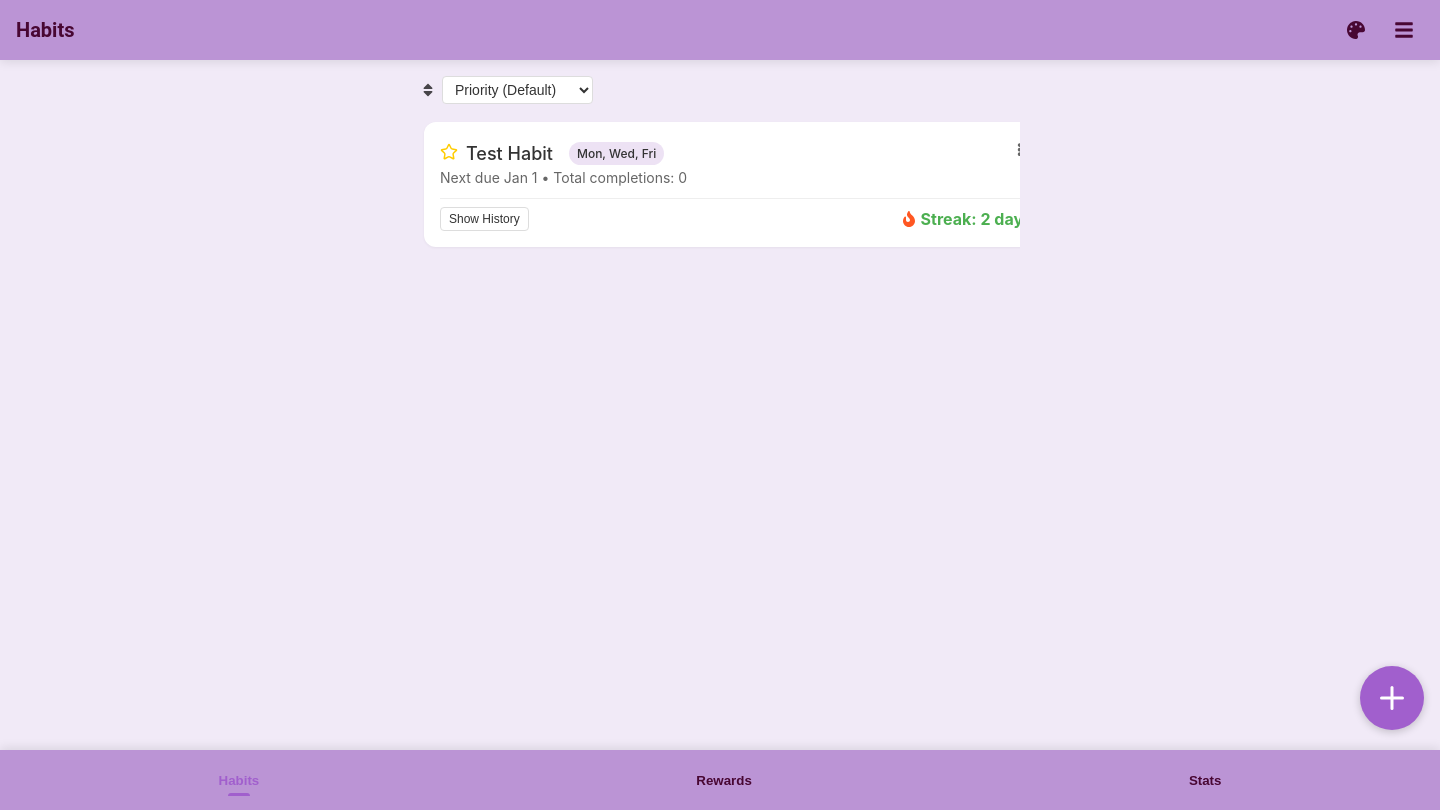
Test: App › opens modal when add button is clicked
Click the button named "add habit": (1392, 698) [1360,666,1424,730]
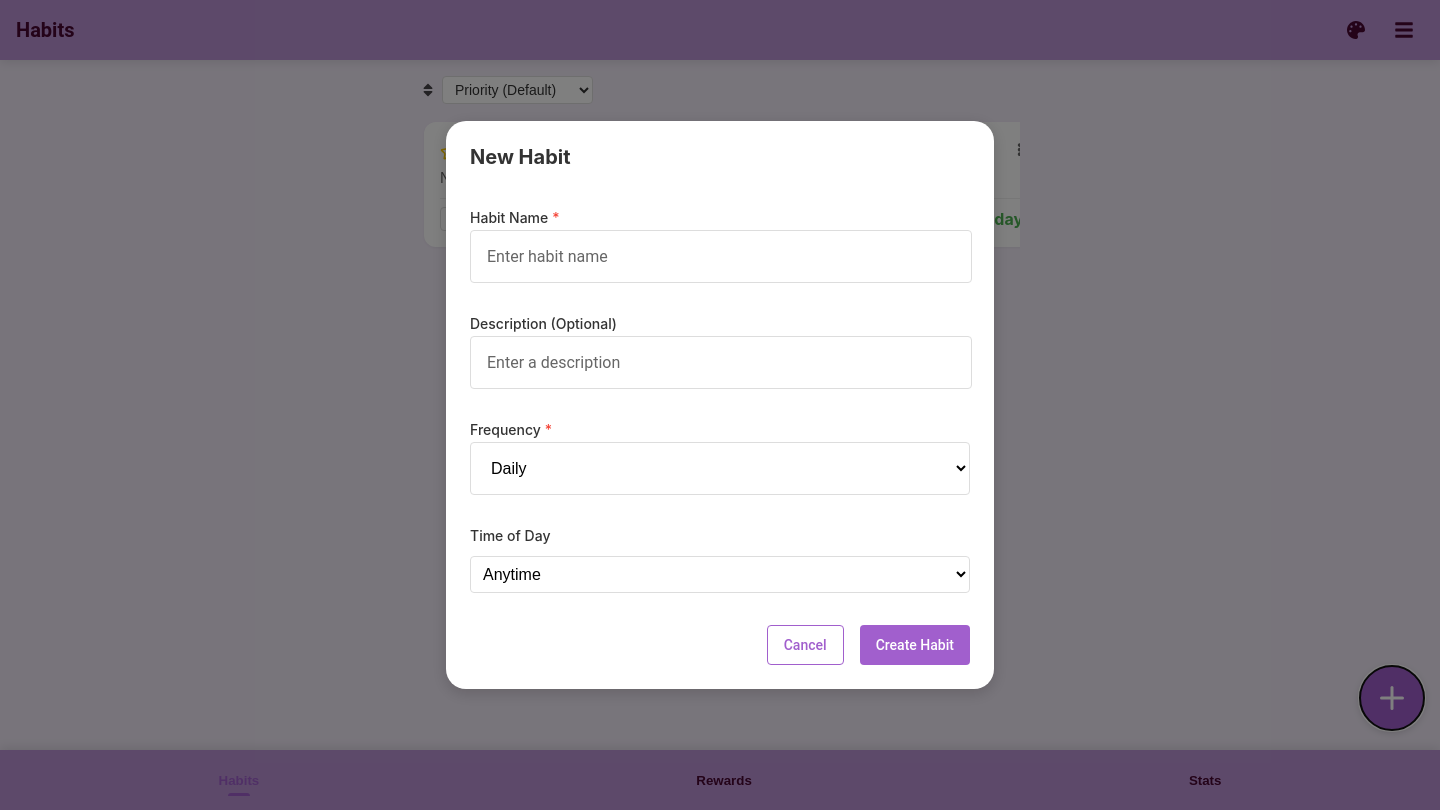
Check: the heading "New Habit" is shown, box [470,145,570,169]
Check: the field labelled "Habit Name*" is shown, box [471,231,971,282]
Check: the field labelled "Description (Optional)" is shown, box [471,337,971,388]
